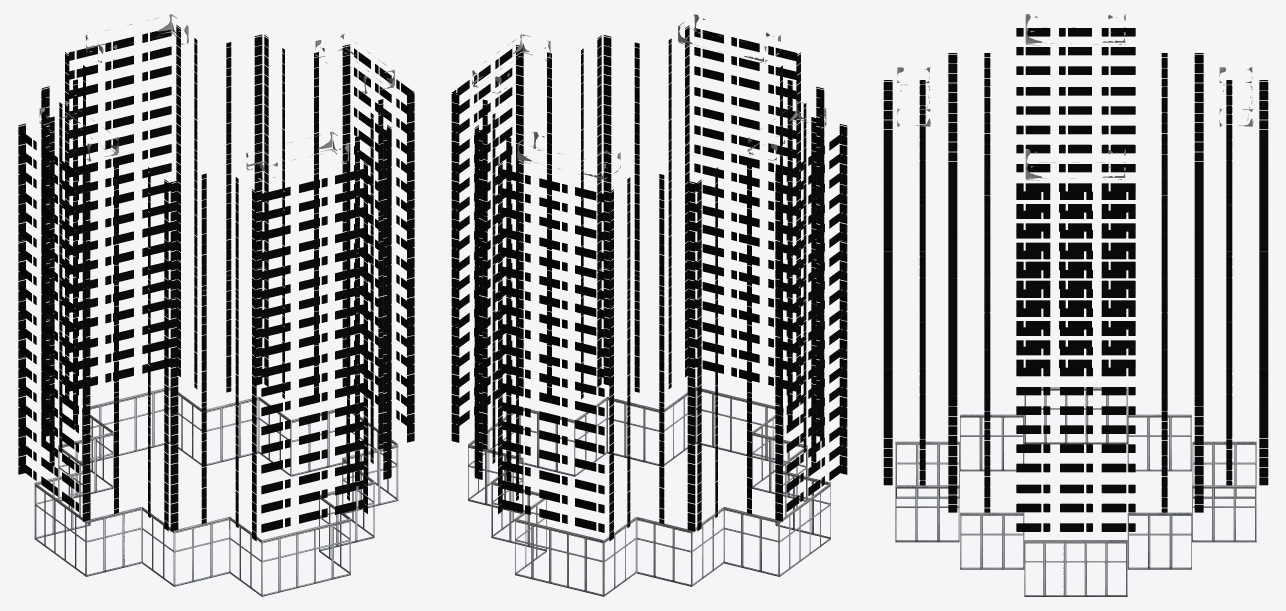
The model's file is si_building_15.fbx.
3 renders of one model, left to right at view 1: azimuth 30°, elevation 25°; view 2: azimuth 150°, elevation 25°; view 3: azimuth 270°, elevation 25°, orthographic.
Parts seen in each view (by area): view 1: si_building_15; view 2: si_building_15; view 3: si_building_15.
Part boxes in pixels (x1,y1,x2,y2): si_building_15: [18, 14, 414, 596]; si_building_15: [451, 14, 847, 596]; si_building_15: [883, 14, 1268, 596].
Bounding box in the file's own units: 91 × 111 × 91.
Materials: 1 (1 with a texture image).
